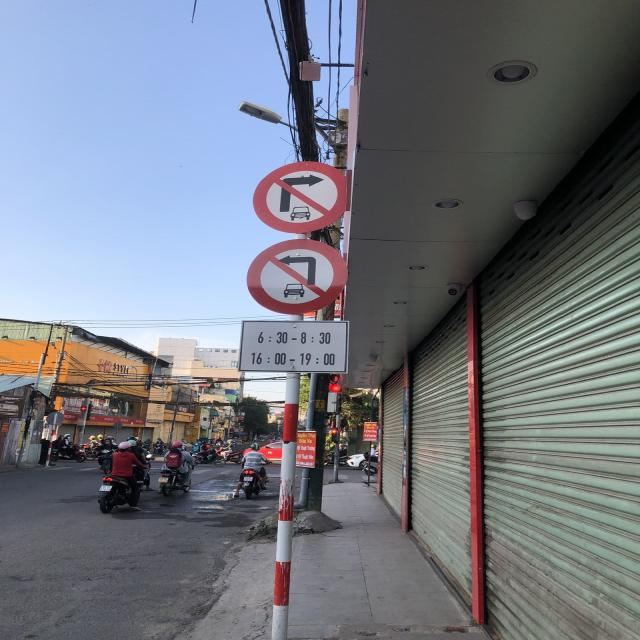Bien bao cam xe o to re phai: (249, 154, 354, 233)
Bien bao cam xe o to re trai: (244, 234, 346, 315)
